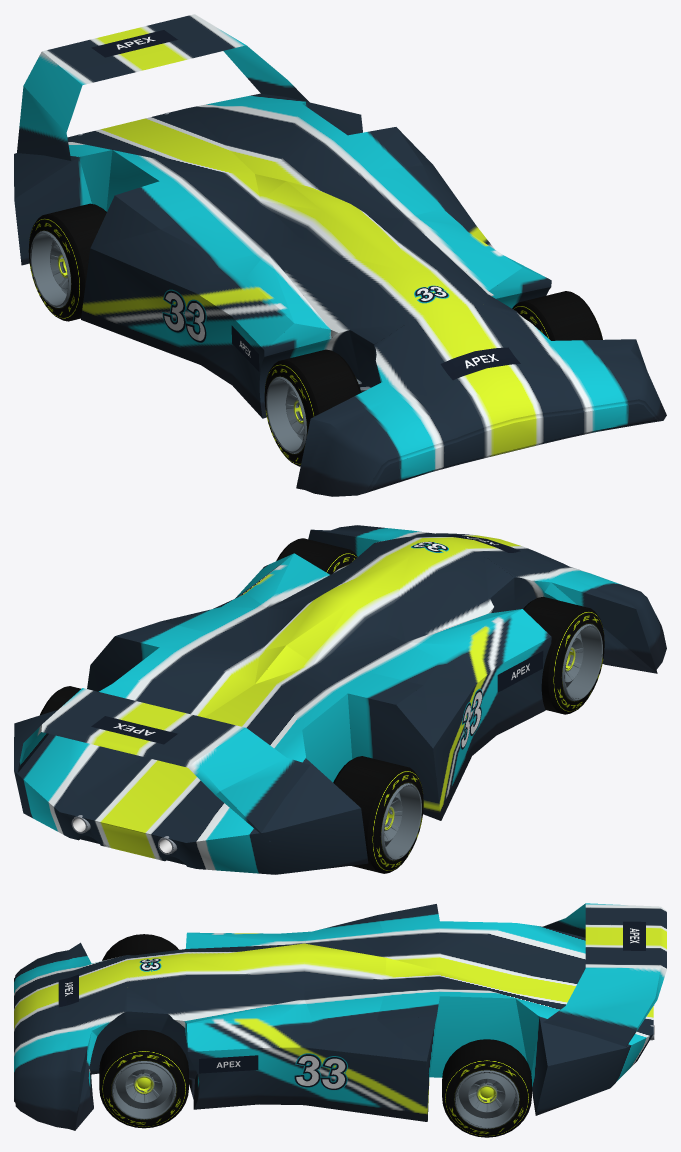
Rendered from APEX33.fbx.
3 views of the same model, one above another, from view 1: azimuth 30°, elevation 25°; view 2: azimuth 150°, elevation 25°; view 3: azimuth 270°, elevation 25° (orthographic). The views are drawn at different scales.
Parts seen in each view (by area): view 1: Body_APEX33, Wheel_FL, Wheel_RL, Wheel_FR; view 2: Body_APEX33, Wheel_RL, Wheel_FL, Wheel_FR, Wheel_RR; view 3: Body_APEX33, Wheel_FR, Wheel_RR, Wheel_FL.
Boxes of the visible parts, x1=… form: Body_APEX33: x1=14, y1=14, x2=666, y2=496; Wheel_FL: x1=264, y1=349, x2=361, y2=466; Wheel_RL: x1=28, y1=203, x2=106, y2=321; Wheel_FR: x1=512, y1=291, x2=602, y2=340; Body_APEX33: x1=14, y1=525, x2=666, y2=874; Wheel_RL: x1=333, y1=756, x2=423, y2=873; Wheel_FL: x1=523, y1=596, x2=604, y2=714; Wheel_FR: x1=276, y1=538, x2=357, y2=574; Wheel_RR: x1=40, y1=686, x2=81, y2=715; Body_APEX33: x1=14, y1=903, x2=666, y2=1130; Wheel_FR: x1=99, y1=1030, x2=188, y2=1128; Wheel_RR: x1=442, y1=1039, x2=531, y2=1137; Wheel_FL: x1=102, y1=934, x2=178, y2=960.
Size of the model in its own units: 1.09 by 0.4785 by 2.08.
2 materials, 2 textured.
